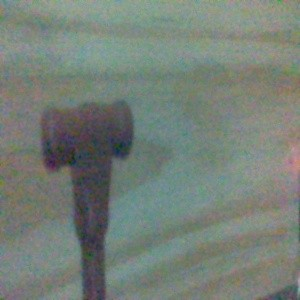palu: (40, 98, 134, 300)
